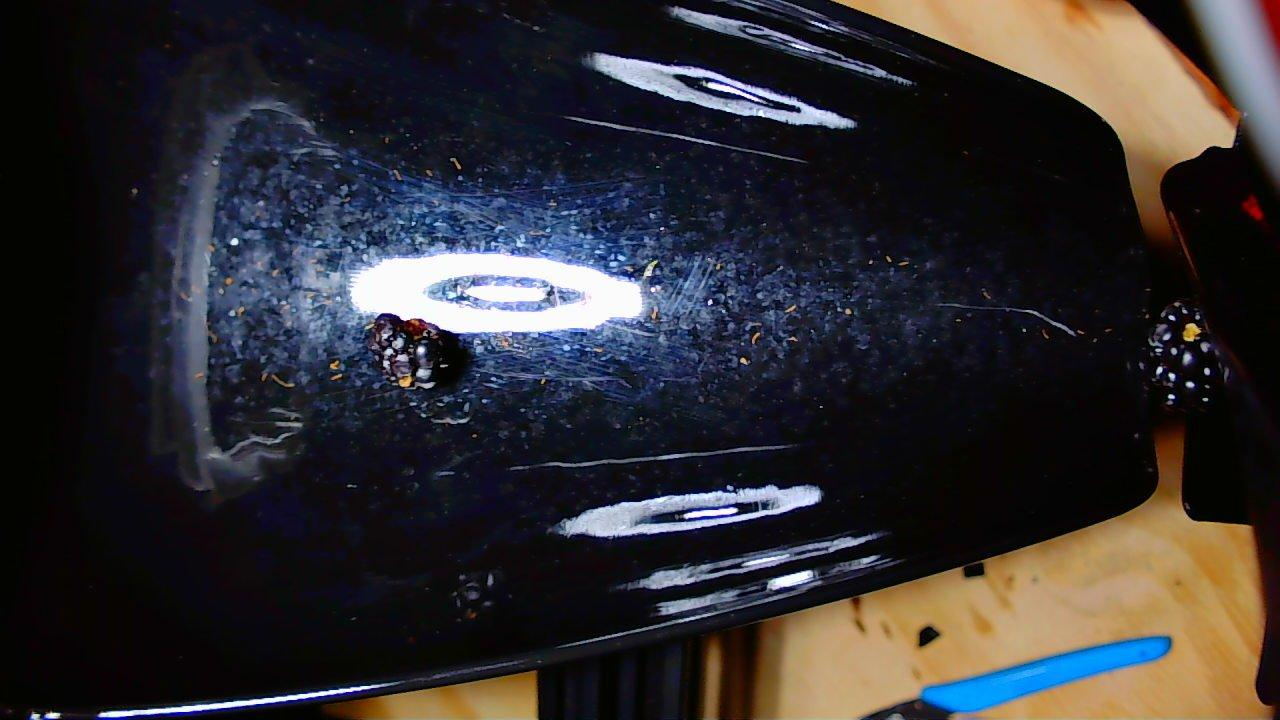berry: (1143, 300, 1222, 410), (366, 314, 456, 388)
